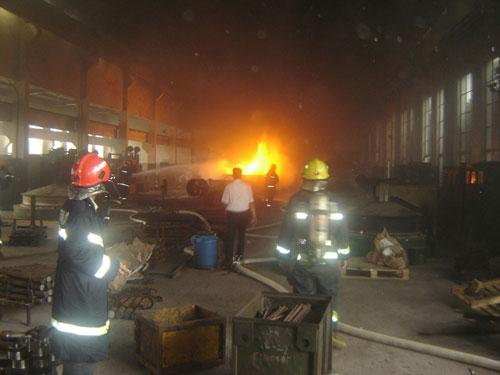fire: (219, 136, 295, 175)
